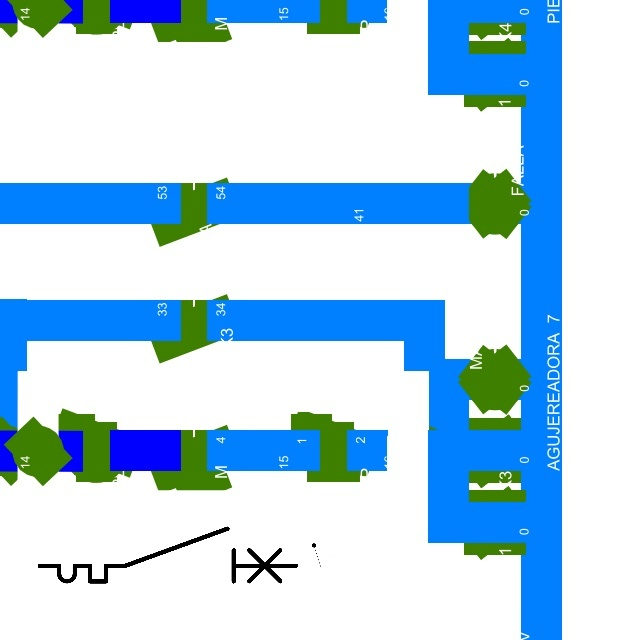interruptor_termomagnetico: (33, 522, 302, 588)
